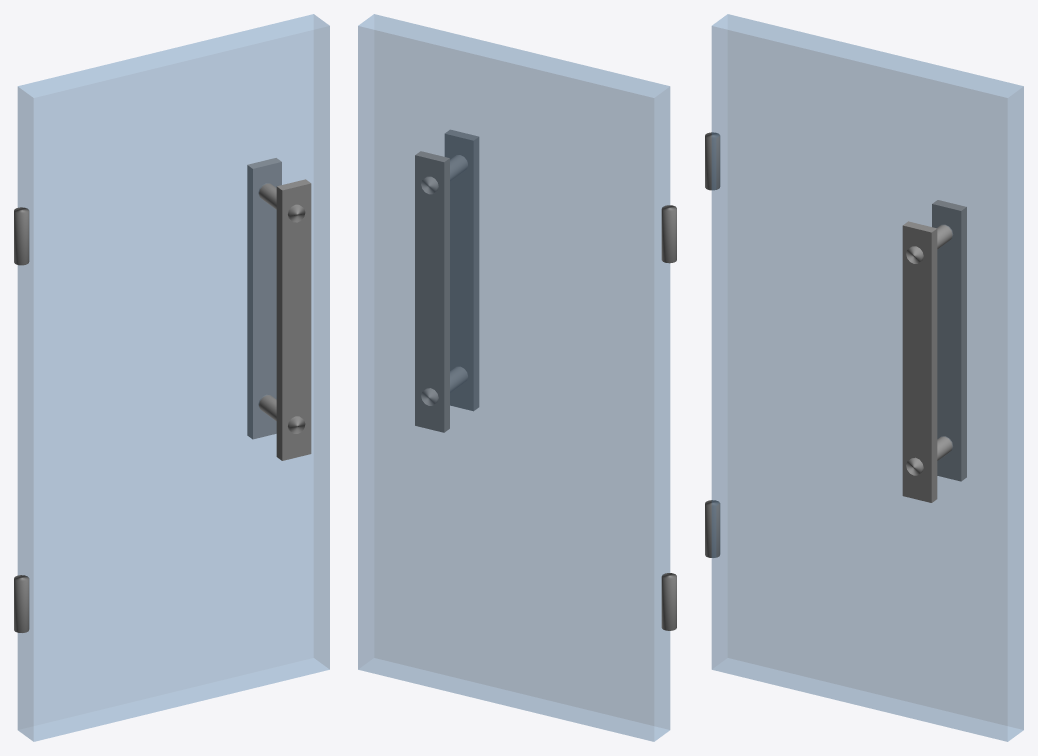
File: Glass_Door.fbx
3 renders of one model, left to right at view 1: azimuth 30°, elevation 25°; view 2: azimuth 150°, elevation 25°; view 3: azimuth 330°, elevation 25°, orthographic.
Visible parts, largest first — view 1: Glass, Handle, Bracket; view 2: Glass, Handle, Bracket; view 3: Glass, Handle, Bracket.
Part boxes in pixels (x1,y1,x2,y2): Glass: (17, 14, 329, 741); Handle: (247, 158, 311, 460); Bracket: (14, 207, 29, 632); Glass: (358, 14, 670, 741); Handle: (415, 129, 479, 432); Bracket: (661, 205, 676, 630); Glass: (711, 14, 1023, 741); Handle: (902, 200, 966, 502); Bracket: (705, 132, 720, 557).
Bounding box in the file's own units: 1.45 × 2.88 × 0.3812.
